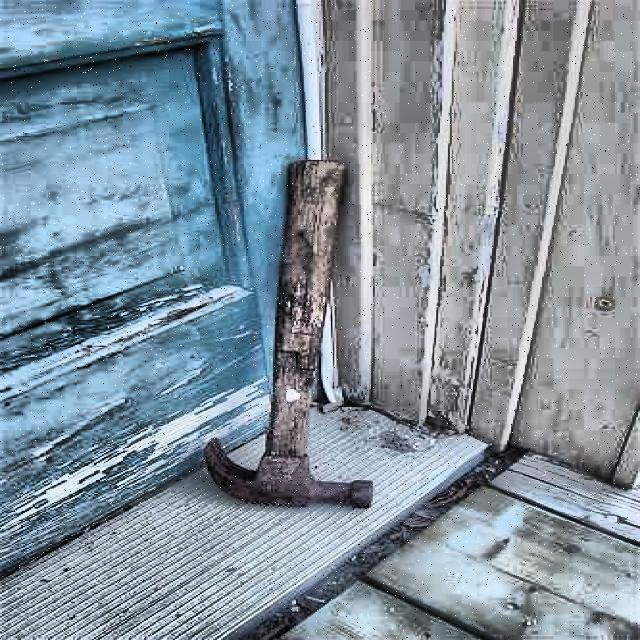hammer: (201, 157, 381, 511)
